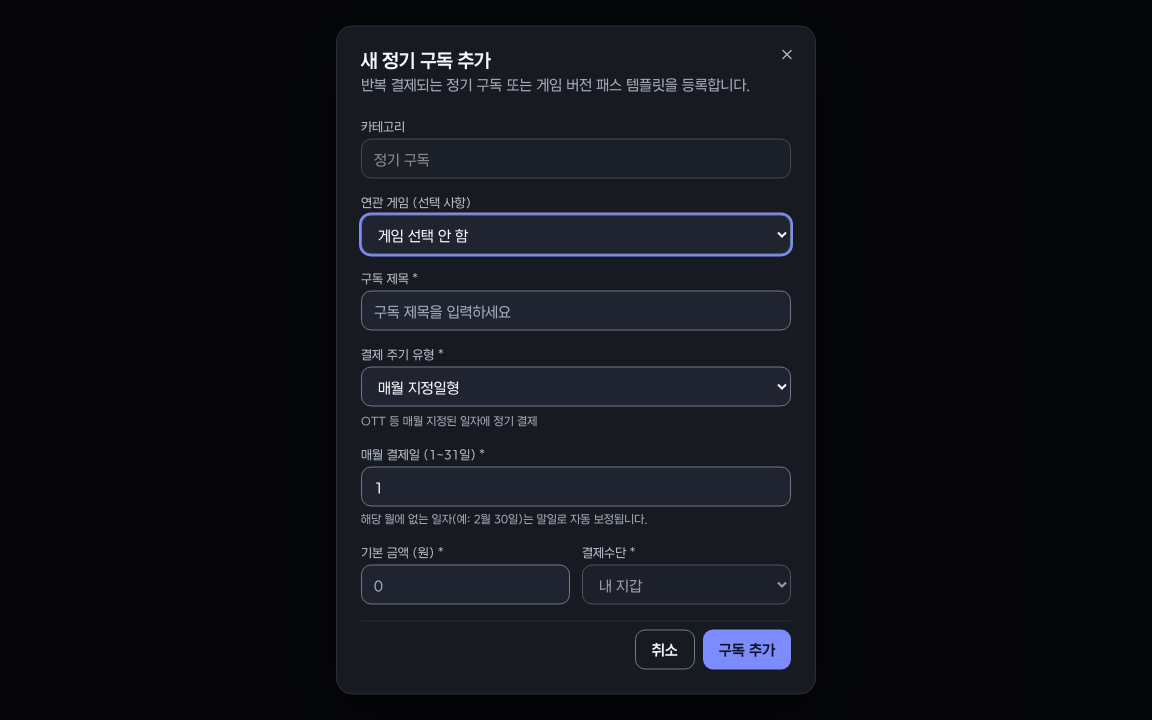
Test: SubscriptionModal › 버전 패스형 선택 상태에서 게임 선택을 해제하면 cycleType이 MONTHLY_DAY로 자동 복구된다
The width and height of the screenshot is (1152, 720).
Select "원신" in the dropdown labelled "연관 게임 (선택 사항)": (576, 234) [361,214,791,254]
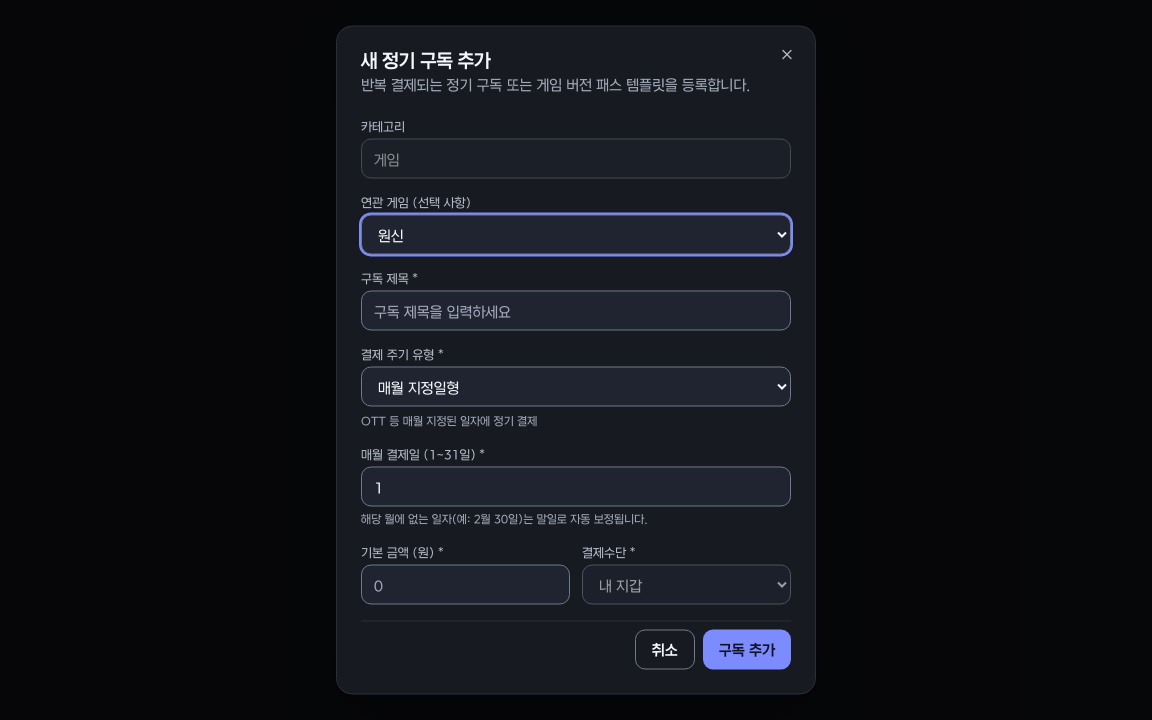
Select "게임 버전 패스형" in the dropdown labelled "결제 주기 유형 *": (576, 386) [361,366,791,406]
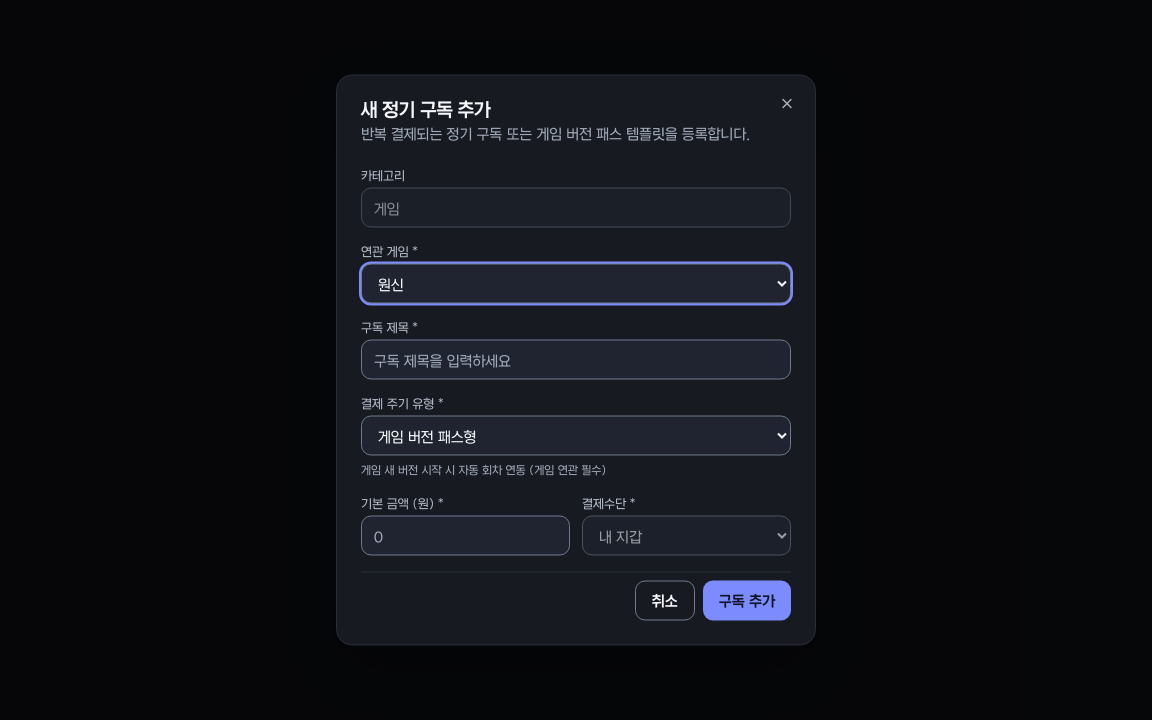
게임 선택 해제
Select "게임 선택 안 함" in the dropdown labelled "연관 게임 *": (576, 284) [361,264,791,304]
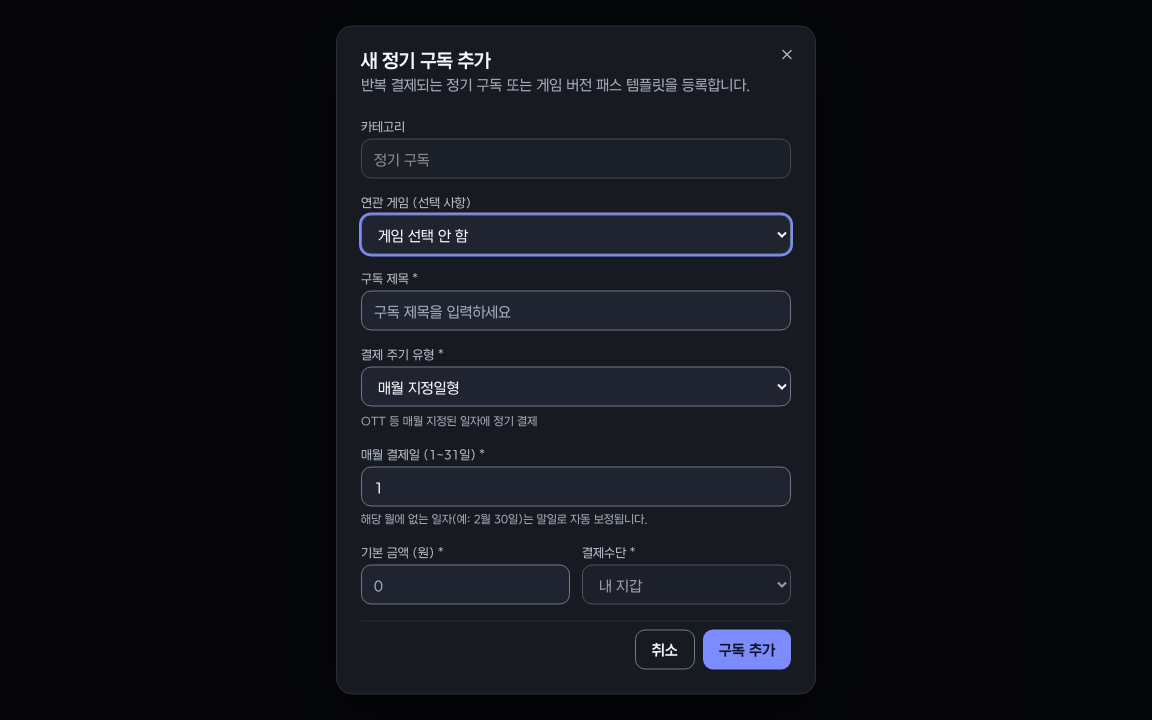
expect the field labelled "카테고리" holds "정기 구독": met, box [361,138,791,178]
